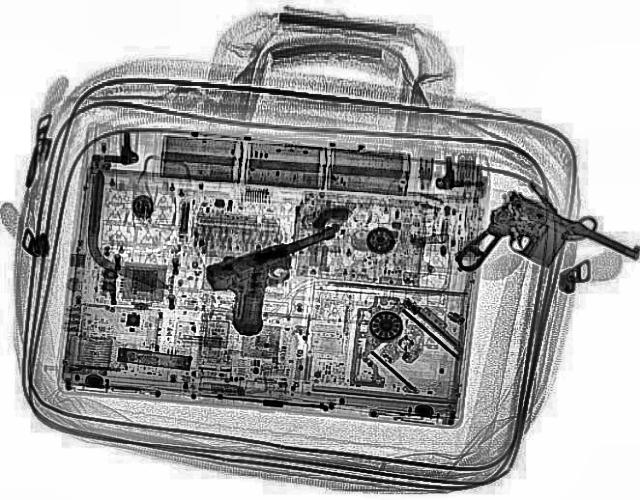Gun: (440, 188, 638, 322), (195, 224, 379, 338)
